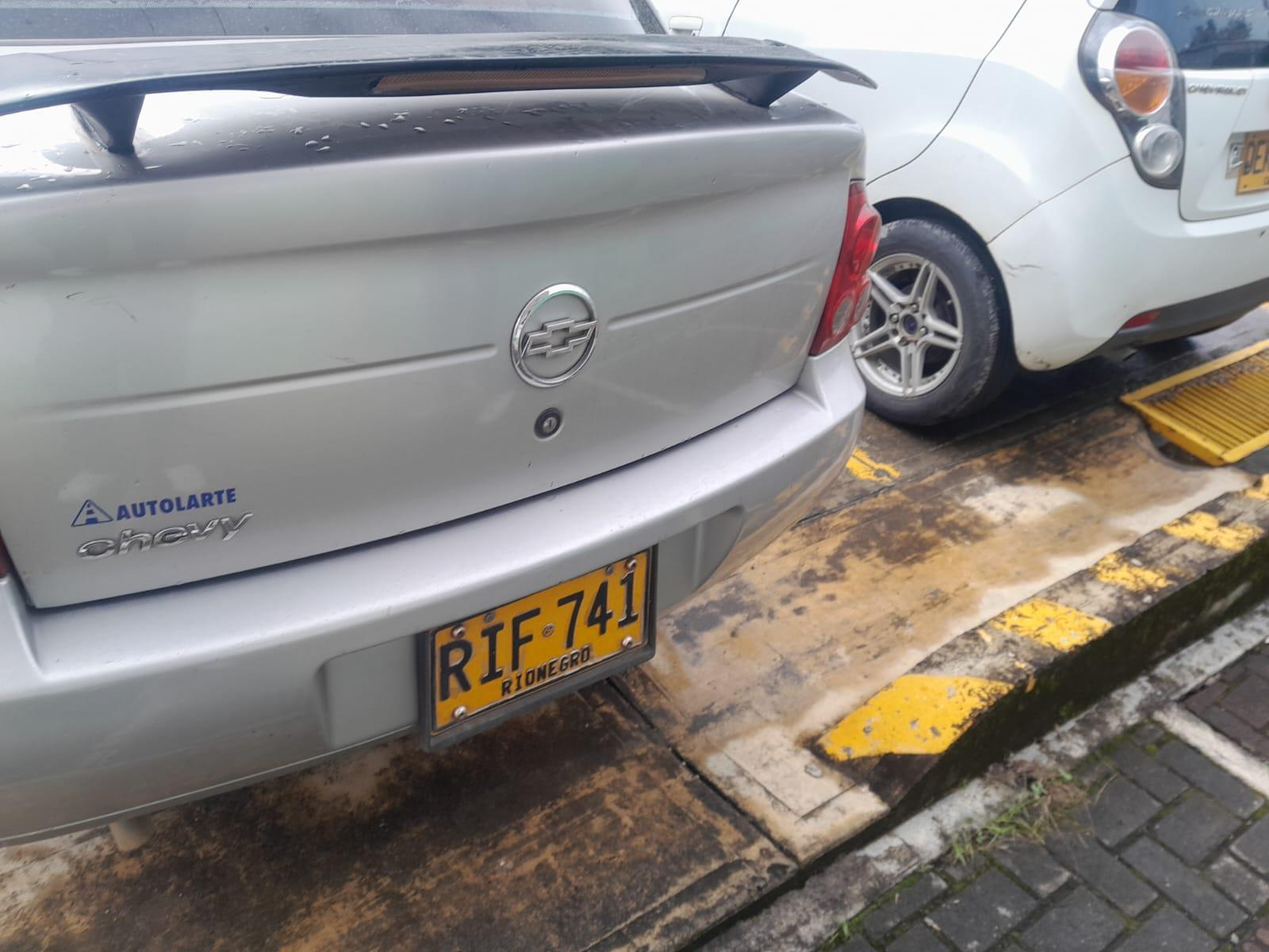placa: (421, 551, 651, 743)
